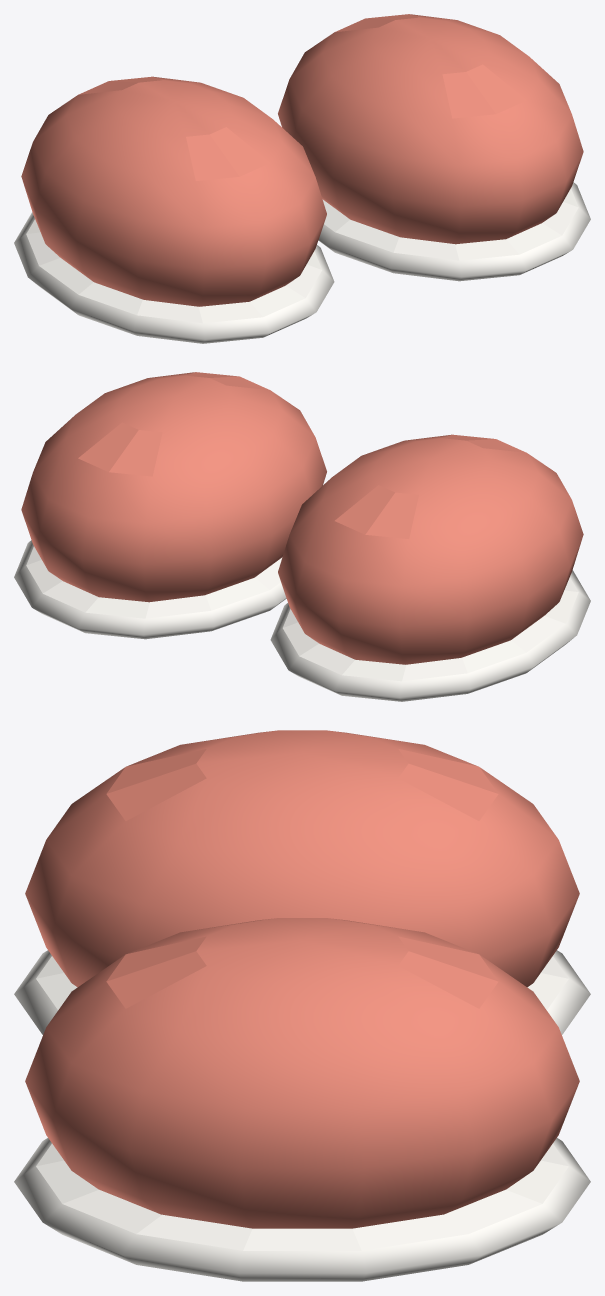
Rendered from Shoes_Sneakers.fbx.
3 views of the same model, one above another, from view 1: azimuth 30°, elevation 25°; view 2: azimuth 150°, elevation 25°; view 3: azimuth 270°, elevation 25° (orthographic). The views are drawn at different scales.
Visible parts, largest first — view 1: Shoe.001, Shoe, Sole.001, Sole; view 2: Shoe.001, Shoe, Sole.001, Sole; view 3: Shoe, Shoe.001, Sole, Sole.001.
Boxes of the visible parts, x1=… form: Shoe.001: x1=21, y1=76, x2=326, y2=306; Shoe: x1=278, y1=14, x2=583, y2=244; Sole.001: x1=14, y1=212, x2=334, y2=343; Sole: x1=318, y1=182, x2=590, y2=281; Shoe.001: x1=278, y1=434, x2=583, y2=664; Shoe: x1=21, y1=372, x2=326, y2=602; Sole.001: x1=270, y1=570, x2=590, y2=701; Sole: x1=14, y1=540, x2=286, y2=639; Shoe: x1=25, y1=918, x2=579, y2=1228; Shoe.001: x1=25, y1=730, x2=579, y2=987; Sole: x1=14, y1=1138, x2=590, y2=1281; Sole.001: x1=14, y1=950, x2=590, y2=1034.
Bounding box in the file's own units: 39.5 × 14 × 26.
